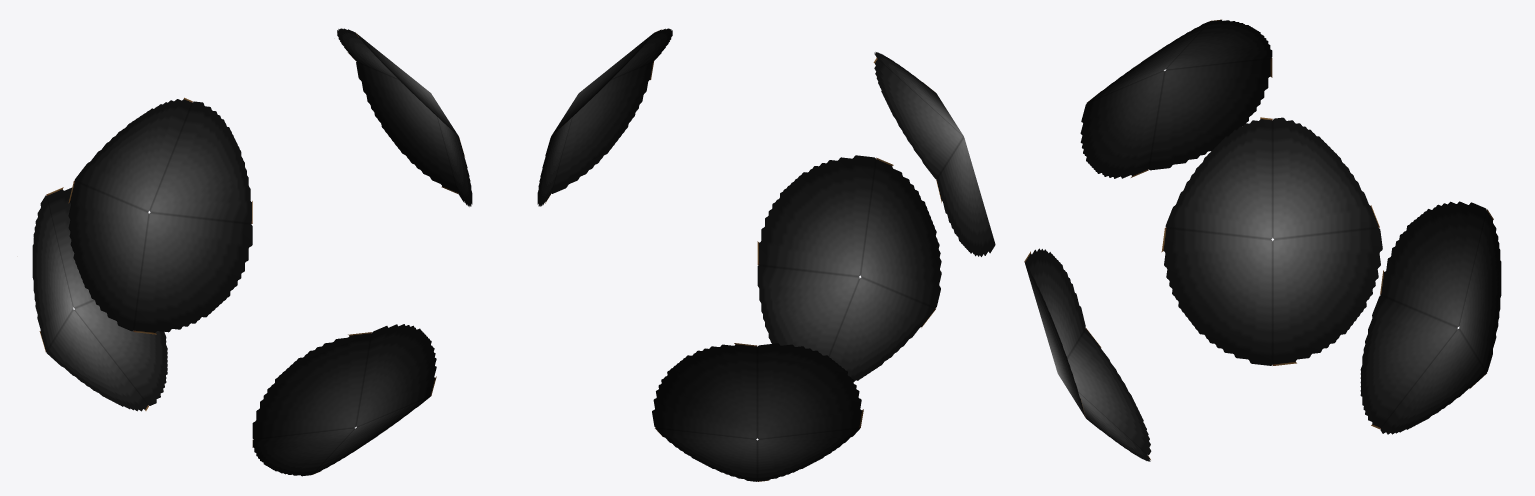
3 views of the same model, side by side, from view 1: azimuth 30°, elevation 25°; view 2: azimuth 150°, elevation 25°; view 3: azimuth 270°, elevation 25° (orthographic). The views are drawn at different scales.
Parts seen in each view (by area): view 1: T1L4M009_31; view 2: T1L4M009_31; view 3: T1L4M009_31.
Part boxes in pixels (box(x1,y1,x2,y2)): T1L4M009_31: box(32, 28, 472, 476); T1L4M009_31: box(537, 28, 995, 481); T1L4M009_31: box(1024, 19, 1501, 461).
Bounding box in the file's own units: 0.7998 × 0.6924 × 0.7998.
